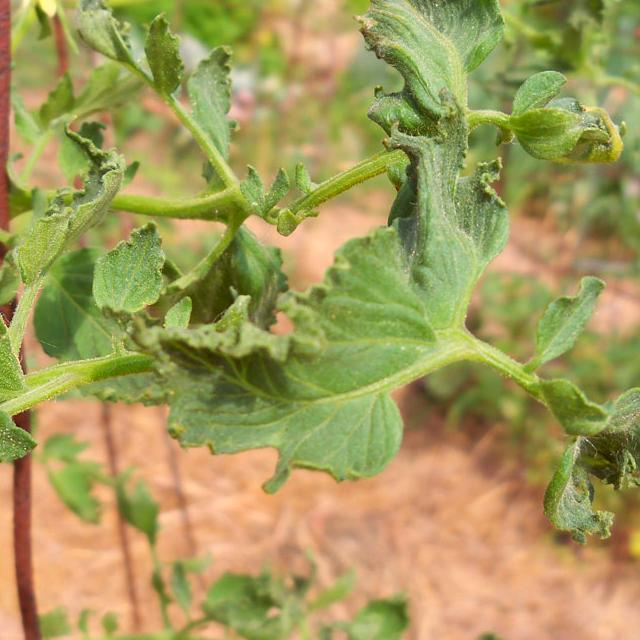Tomato leaf mosaic virus: (166, 226, 473, 478), (352, 0, 512, 348), (533, 353, 640, 564), (86, 220, 172, 315), (188, 33, 240, 166), (0, 331, 33, 479)
